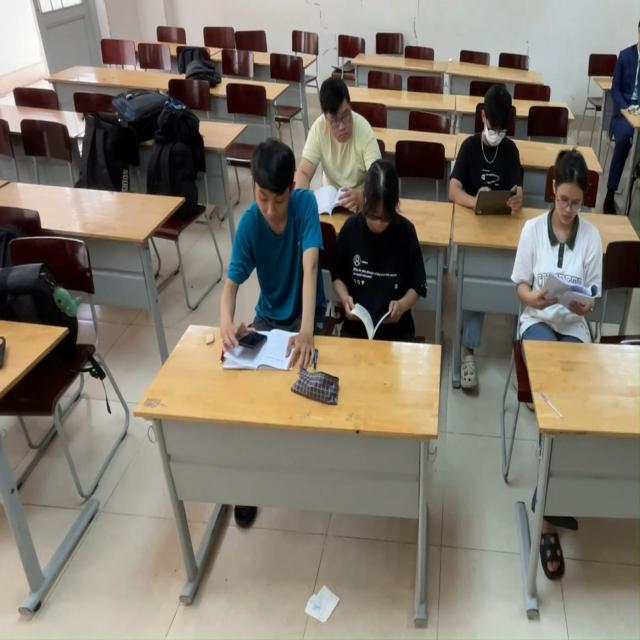read: (223, 140, 325, 385), (517, 152, 614, 378), (340, 152, 428, 348), (458, 77, 523, 229), (304, 79, 380, 206)
